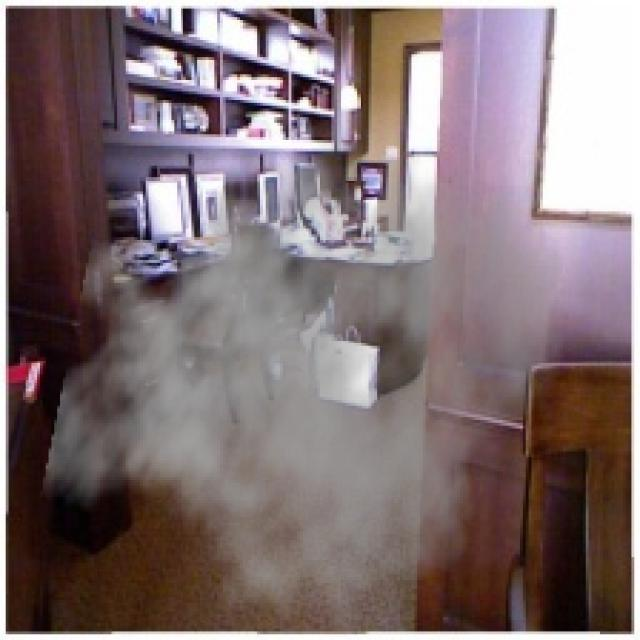Smoke: (39, 100, 572, 637)
